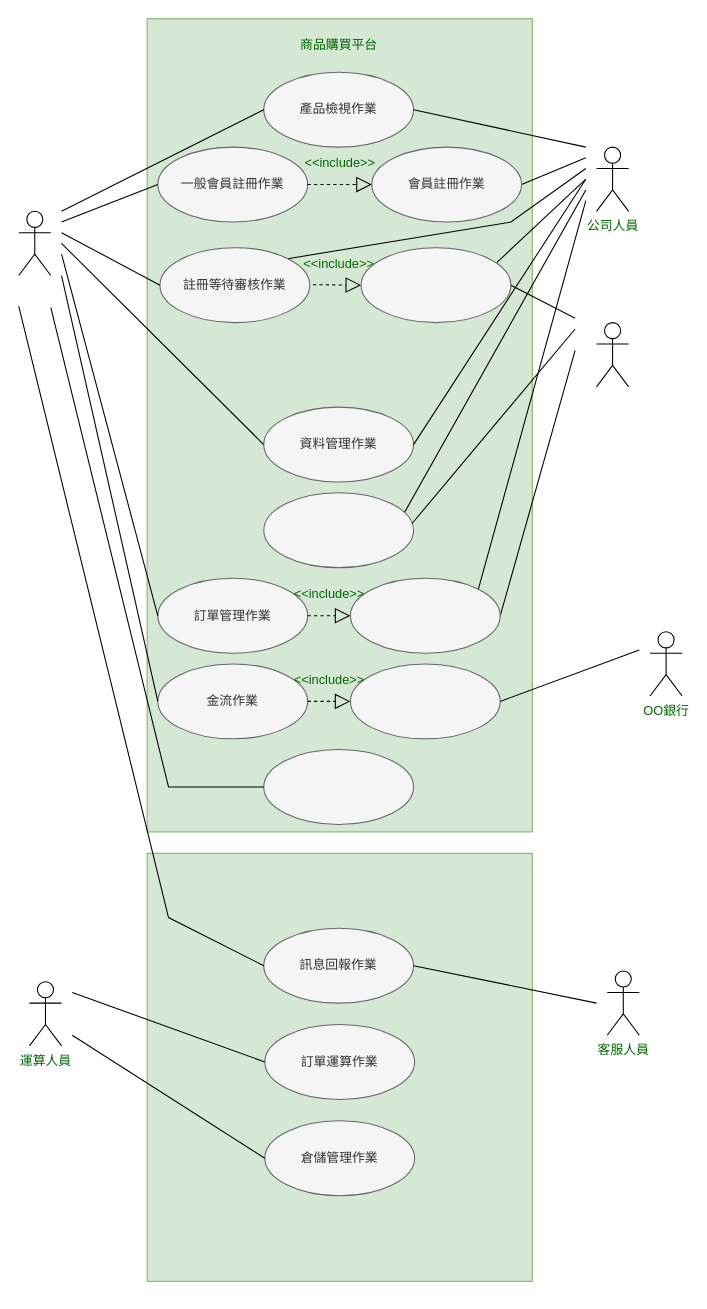
The diagram is 707 pixels wide and 1309 high, and some of its shapes have lost their labels. Each missing label, with the box of its shape:
修改訂單狀態作業: (349, 577, 500, 653)
客戶: (18, 210, 51, 276)
檢視已完成 訂單作業: (263, 748, 414, 824)
產品管理作業: (263, 492, 414, 568)
系統維護人員: (595, 322, 629, 387)
註冊審核作業: (360, 247, 511, 323)
金流驗證作業: (349, 663, 500, 739)
